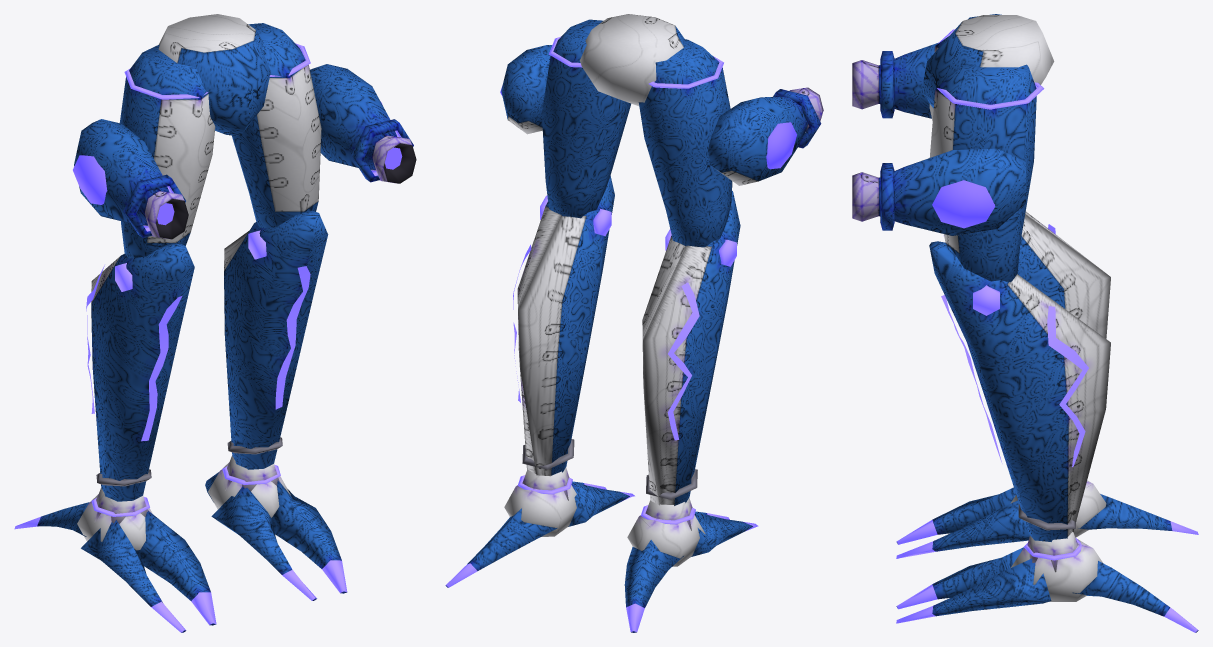
File: PlasmaLegsZ.glb
3 renders of one model, left to right at view 1: azimuth 30°, elevation 25°; view 2: azimuth 150°, elevation 25°; view 3: azimuth 270°, elevation 25°, orthographic. The views are drawn at different scales.
Parts seen in each view (by area): view 1: PlasmaLegsZ_ThighR, PlasmaLegsZ_ThighL, PlasmaLegsZ_ShinL, PlasmaLegsZ_ShinR, PlasmaLegsZ_FootL, PlasmaLegsZ_FootR, PlasmaLegsZ_Pelvis; view 2: PlasmaLegsZ_ThighL, PlasmaLegsZ_ShinR, PlasmaLegsZ_ShinL, PlasmaLegsZ_ThighR, PlasmaLegsZ_FootL, PlasmaLegsZ_FootR, PlasmaLegsZ_Pelvis; view 3: PlasmaLegsZ_ShinR, PlasmaLegsZ_ThighR, PlasmaLegsZ_FootR, PlasmaLegsZ_FootL, PlasmaLegsZ_Pelvis, PlasmaLegsZ_ShinL, PlasmaLegsZ_ThighL.
Part boxes in pixels (bbox=[...]): PlasmaLegsZ_ThighR: bbox=[232, 23, 416, 227]; PlasmaLegsZ_ThighL: bbox=[73, 44, 215, 258]; PlasmaLegsZ_ShinL: bbox=[86, 244, 194, 501]; PlasmaLegsZ_ShinR: bbox=[224, 211, 328, 469]; PlasmaLegsZ_FootL: bbox=[14, 488, 216, 632]; PlasmaLegsZ_FootR: bbox=[205, 455, 347, 600]; PlasmaLegsZ_Pelvis: bbox=[158, 14, 270, 136]; PlasmaLegsZ_ThighL: bbox=[638, 39, 823, 247]; PlasmaLegsZ_ShinR: bbox=[513, 175, 614, 476]; PlasmaLegsZ_ShinL: bbox=[642, 191, 740, 505]; PlasmaLegsZ_ThighR: bbox=[500, 19, 630, 218]; PlasmaLegsZ_FootL: bbox=[624, 498, 758, 632]; PlasmaLegsZ_FootR: bbox=[445, 467, 634, 587]; PlasmaLegsZ_Pelvis: bbox=[580, 14, 684, 105]; PlasmaLegsZ_ShinR: bbox=[929, 241, 1110, 541]; PlasmaLegsZ_ThighR: bbox=[852, 63, 1044, 282]; PlasmaLegsZ_FootR: bbox=[896, 532, 1198, 632]; PlasmaLegsZ_FootL: bbox=[896, 480, 1198, 558]; PlasmaLegsZ_Pelvis: bbox=[921, 15, 1054, 108]; PlasmaLegsZ_ShinL: bbox=[943, 211, 1110, 338]; PlasmaLegsZ_ThighL: bbox=[852, 14, 1001, 120].
Size of the model in its own units: 11.97 by 21.44 by 12.26.
6 materials, 4 textured.
